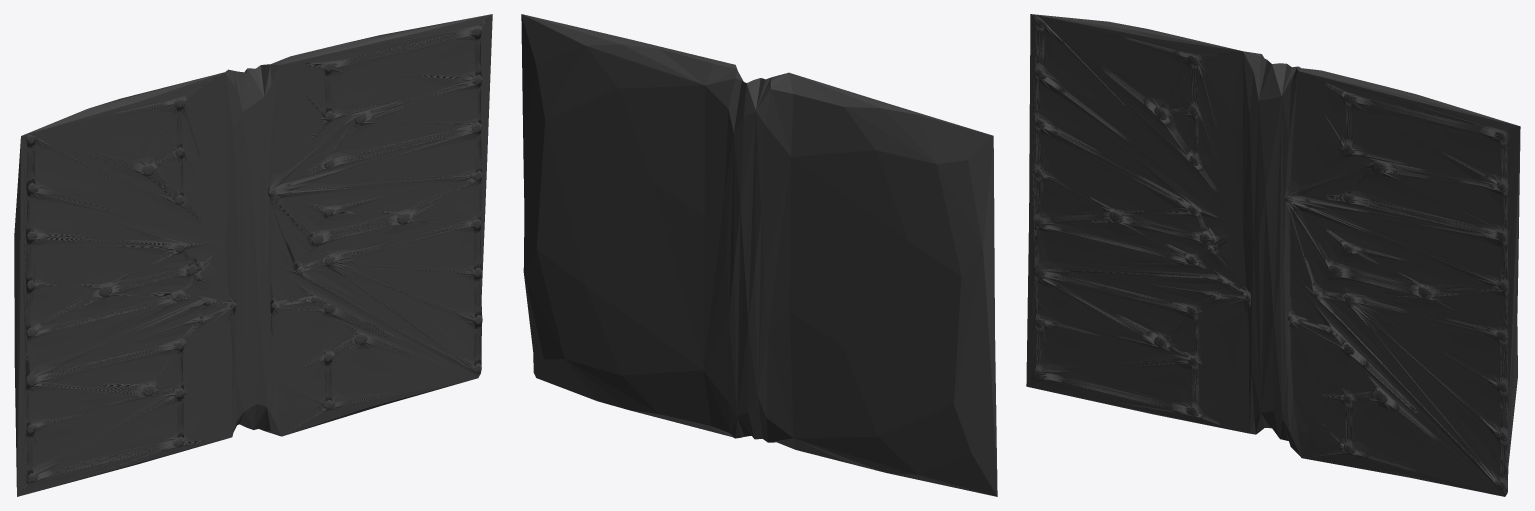
Rendered from tmp_scatter.glb.
The picture shows the model from 3 angles, left to right: view 1: azimuth 30°, elevation 25°; view 2: azimuth 150°, elevation 25°; view 3: azimuth 330°, elevation 25°; orthographic projection. The views are drawn at different scales.
Visible parts, largest first — view 1: body; view 2: body; view 3: body.
Boxes of the visible parts, box(x1,y1,x2,y2) form: body: box(14, 14, 492, 496); body: box(521, 14, 997, 496); body: box(1026, 14, 1520, 496).
Bounding box in the file's own units: 38.32 × 29.11 × 2.61.
1 material, 1 textured.
